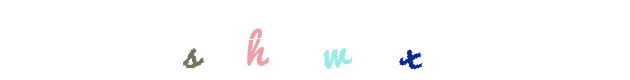H: (271, 0, 351, 80)
S: (212, 0, 292, 80)
W: (275, 0, 355, 80)
X: (299, 0, 379, 80)
